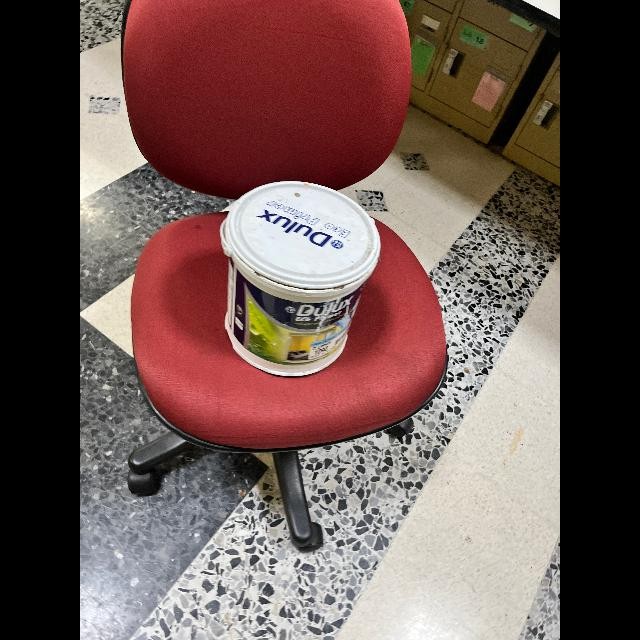paint_bucket: (216, 166, 387, 380)
